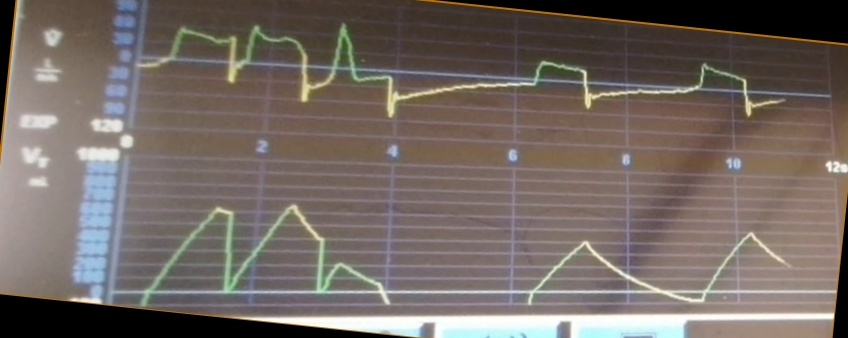Double_Triggering Flow: (145, 22, 787, 137)
Double_Triggering Volume: (137, 197, 793, 305)
